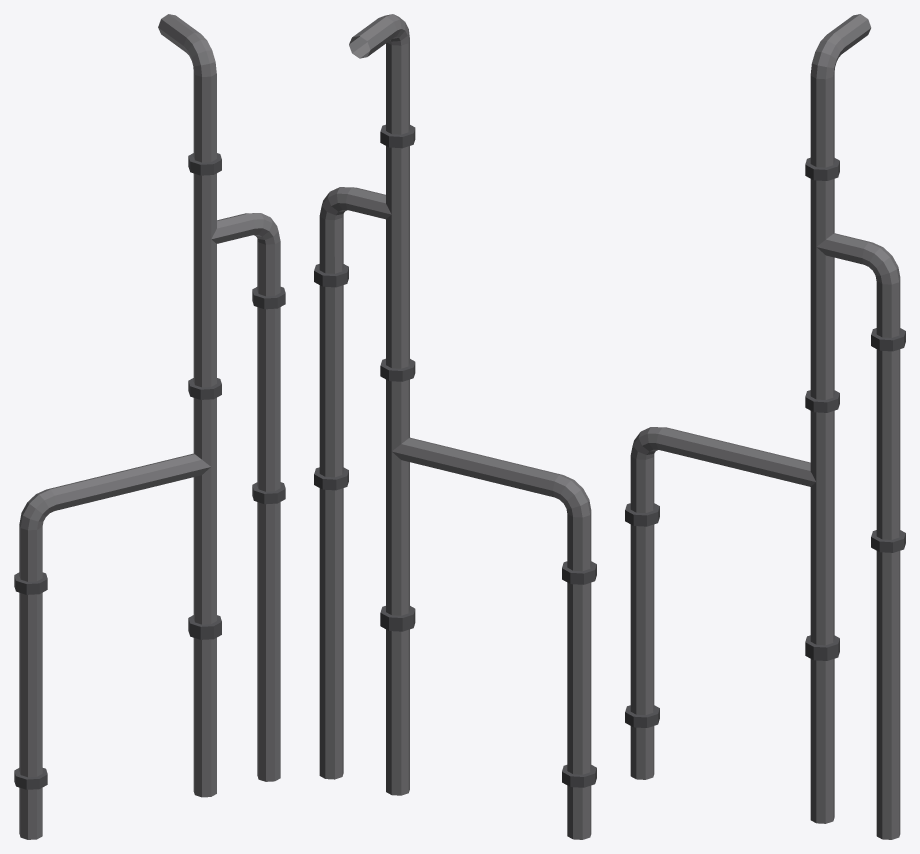
File: SM_Prop_Pipe_Small_02.fbx
3 views of the same model, side by side, from view 1: azimuth 30°, elevation 25°; view 2: azimuth 150°, elevation 25°; view 3: azimuth 330°, elevation 25° (orthographic). The views are drawn at different scales.
Visible parts, largest first — view 1: SM_Prop_Pipe_Small_02; view 2: SM_Prop_Pipe_Small_02; view 3: SM_Prop_Pipe_Small_02.
Part boxes in pixels (x1=…): SM_Prop_Pipe_Small_02: x1=14, y1=14, x2=285, y2=839; SM_Prop_Pipe_Small_02: x1=314, y1=14, x2=596, y2=839; SM_Prop_Pipe_Small_02: x1=625, y1=14, x2=905, y2=839.
Bounding box in the file's own units: 134 × 360 × 39.47.
